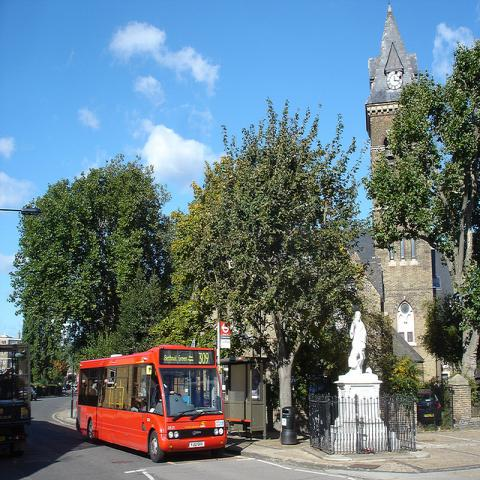bus: (77, 344, 227, 462), (0, 336, 32, 458)
car: (417, 388, 442, 426), (19, 387, 37, 400)
